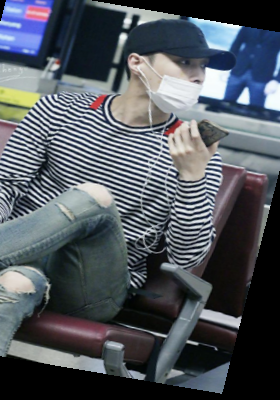mask_weared_incorrect: (117, 14, 240, 138)
